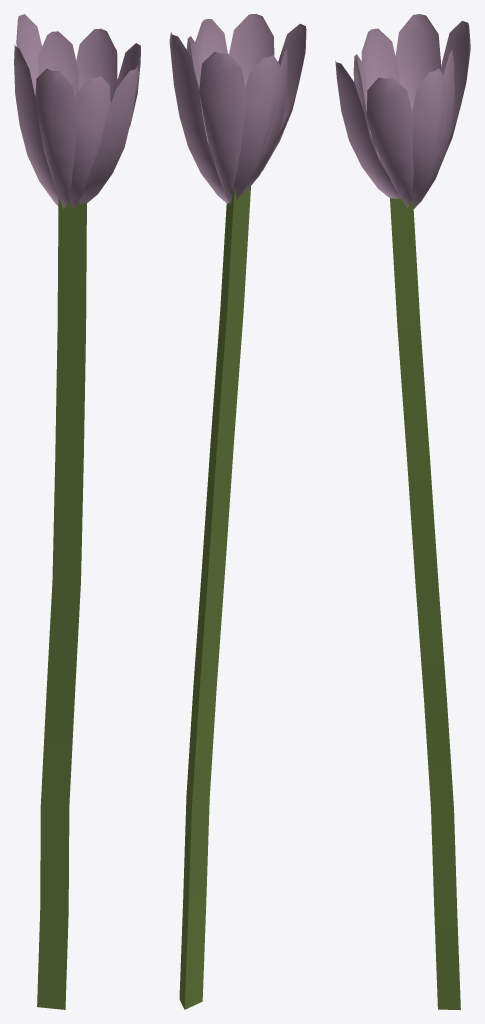
Rendered from plant_water_twig_solo_G.fbx.
3 views of the same model, side by side, from view 1: azimuth 90°, elevation 25°; view 2: azimuth 150°, elevation 25°; view 3: azimuth 330°, elevation 25° (orthographic).
Visible parts, largest first — view 1: plant_water_twig_solo_G; view 2: plant_water_twig_solo_G; view 3: plant_water_twig_solo_G.
Part boxes in pixels (bbox=[...]): plant_water_twig_solo_G: bbox=[14, 14, 140, 1009]; plant_water_twig_solo_G: bbox=[169, 14, 306, 1009]; plant_water_twig_solo_G: bbox=[335, 14, 470, 1009].
Size of the model in its own units: 3.56 by 34.29 by 3.98.
